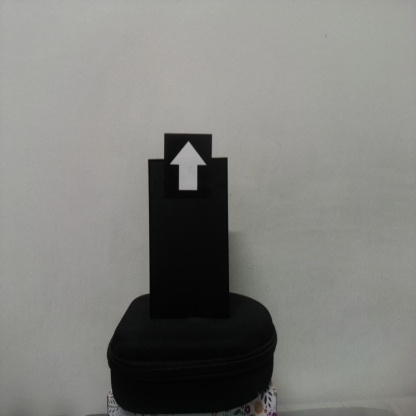id_1: (163, 132, 213, 209)
